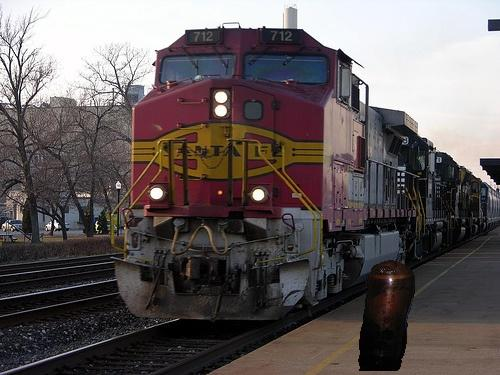tampered: (359, 261, 415, 371)
